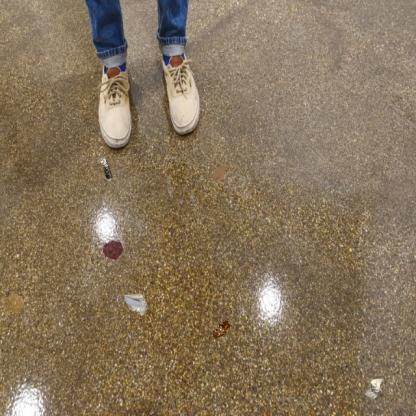dirty: (123, 291, 148, 319), (211, 315, 232, 341), (363, 376, 385, 400), (98, 155, 116, 182), (209, 162, 230, 184)
liquid: (1, 290, 28, 314), (101, 239, 125, 261)
